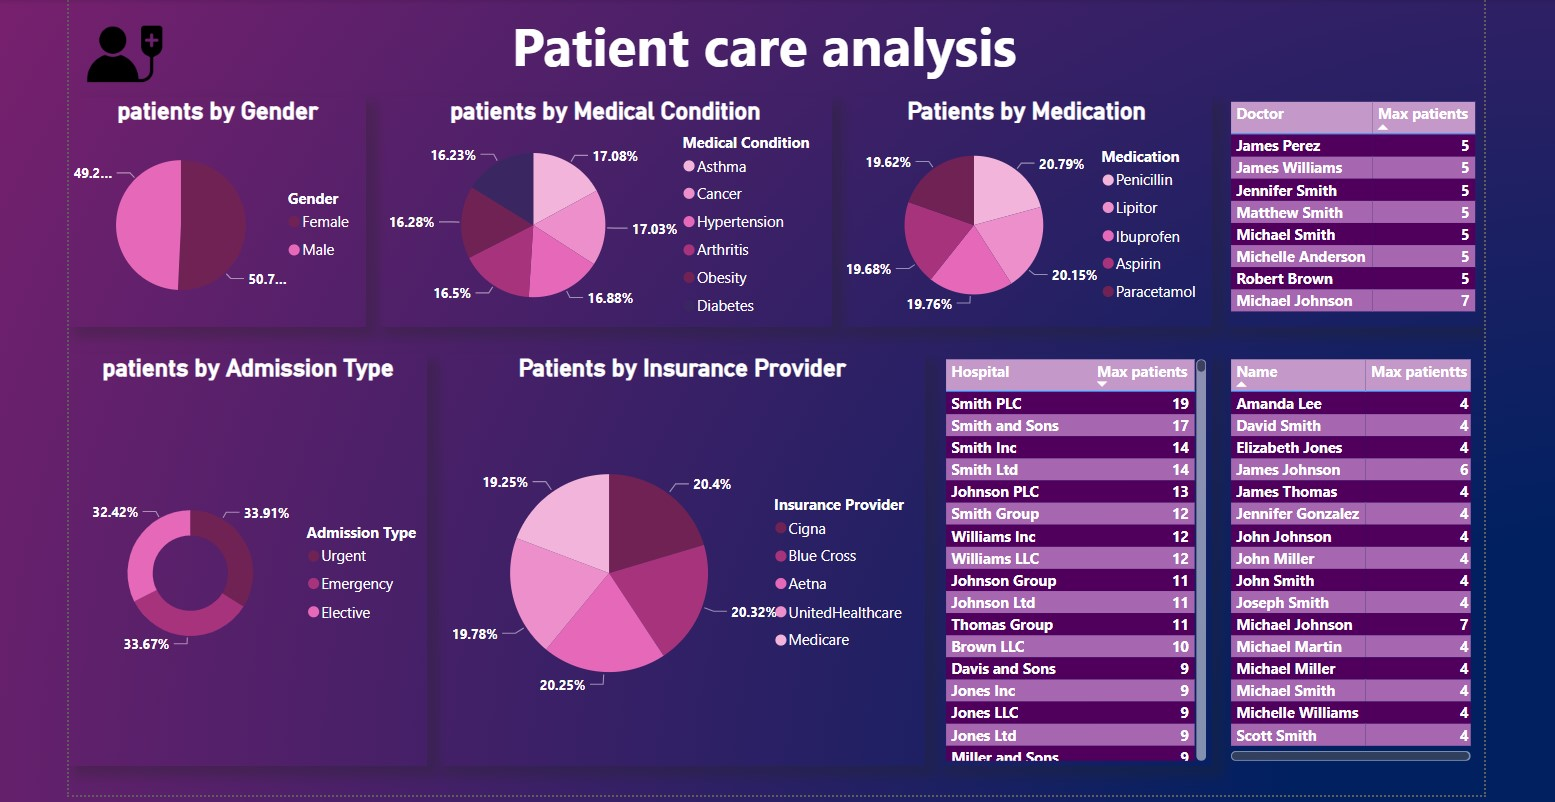

The dashboard page shown, as its layout file describes it:
{"tool":"powerbi","page":{"name":"patient analysis","canvas":[1280,720],"ordinal":2},"visuals":[{"type":"pieChart","title":"patients by Gender","fields":{"Y":["CountNonNull(healthcare_dataset.ID)"],"Category":["healthcare_dataset.Gender"]},"box":[0,88,268.9,209],"z":0},{"type":"pieChart","title":"patients by Medical Condition","fields":{"Y":["CountNonNull(healthcare_dataset.ID)"],"Category":["healthcare_dataset.Medical Condition"]},"box":[279.9,88,409.5,209],"z":1000},{"type":"pieChart","title":"Patients by Medication","fields":{"Y":["CountNonNull(healthcare_dataset.ID)"],"Category":["healthcare_dataset.Medication"]},"box":[699.2,88,334.9,209],"z":2000},{"type":"tableEx","fields":{"Values":["healthcare_dataset.Doctor","CountNonNull(healthcare_dataset.ID)"]},"box":[1045.2,88,234.7,209],"z":3000},{"type":"tableEx","fields":{"Values":["healthcare_dataset.Name","CountNonNull(healthcare_dataset.ID)"]},"box":[1045.2,321.5,228.6,372.8],"z":4000},{"type":"donutChart","title":"patients by Admission Type","fields":{"Category":["healthcare_dataset.Admission Type"],"Y":["CountNonNull(healthcare_dataset.ID)"]},"box":[0,321.5,323.9,372.8],"z":5000},{"type":"pieChart","title":"Patients by Insurance Provider","fields":{"Category":["healthcare_dataset.Insurance Provider"],"Y":["CountNonNull(healthcare_dataset.ID)"]},"box":[334.9,321.5,440.1,372.8],"z":6000},{"type":"tableEx","fields":{"Values":["healthcare_dataset.Hospital","CountNonNull(healthcare_dataset.ID)"]},"box":[787.2,321.5,246.9,372.8],"z":7000},{"type":"textbox","box":[396.1,3.7,487.7,74.6],"z":8000},{"type":"image","box":[0,0,100.2,99],"z":9000}]}

Visuals, with their boxes on the page's 1280x720 design canvas (x1, y1, x2, y2). These are canvas units, not pixel positions in the 1555x802 screenshot, which may show the page scaled, cropped or inside an application window:
"patients by Gender" pieChart: BBox(0, 88, 269, 297)
"patients by Medical Condition" pieChart: BBox(280, 88, 689, 297)
"Patients by Medication" pieChart: BBox(699, 88, 1034, 297)
tableEx - healthcare_dataset.Doctor x CountNonNull(healthcare_dataset.ID): BBox(1045, 88, 1280, 297)
tableEx - healthcare_dataset.Name x CountNonNull(healthcare_dataset.ID): BBox(1045, 322, 1274, 694)
"patients by Admission Type" donutChart: BBox(0, 322, 324, 694)
"Patients by Insurance Provider" pieChart: BBox(335, 322, 775, 694)
tableEx - healthcare_dataset.Hospital x CountNonNull(healthcare_dataset.ID): BBox(787, 322, 1034, 694)
textbox: BBox(396, 4, 884, 78)
image: BBox(0, 0, 100, 99)
